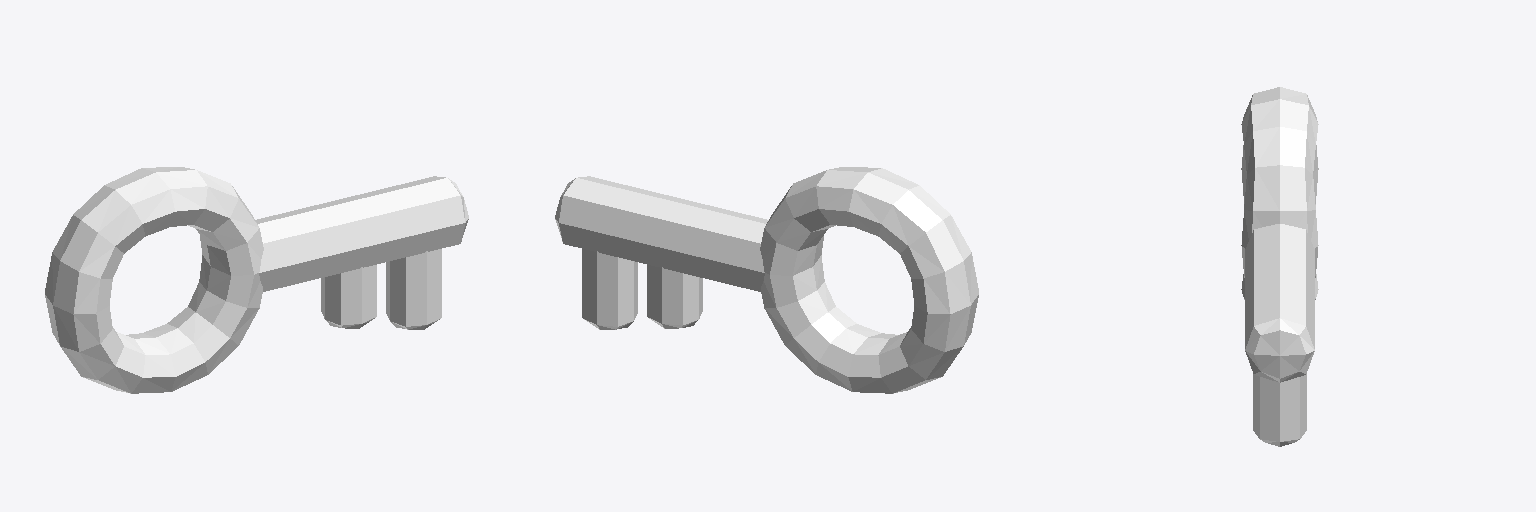
Rendered from Key.obj.
3 renders of one model, left to right at view 1: azimuth 30°, elevation 25°; view 2: azimuth 150°, elevation 25°; view 3: azimuth 270°, elevation 25°, orthographic.
Parts seen in each view (by area): view 1: obj1; view 2: obj1; view 3: obj1.
Part boxes in pixels (bbox=[...]): obj1: bbox=[45, 167, 468, 393]; obj1: bbox=[555, 167, 978, 393]; obj1: bbox=[1241, 87, 1318, 446].
Bounding box in the file's own units: 1.93 × 0.9819 × 0.3177.